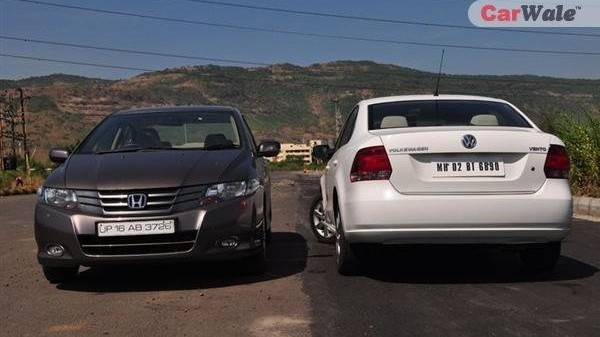number_plate: (412, 143, 519, 185)
